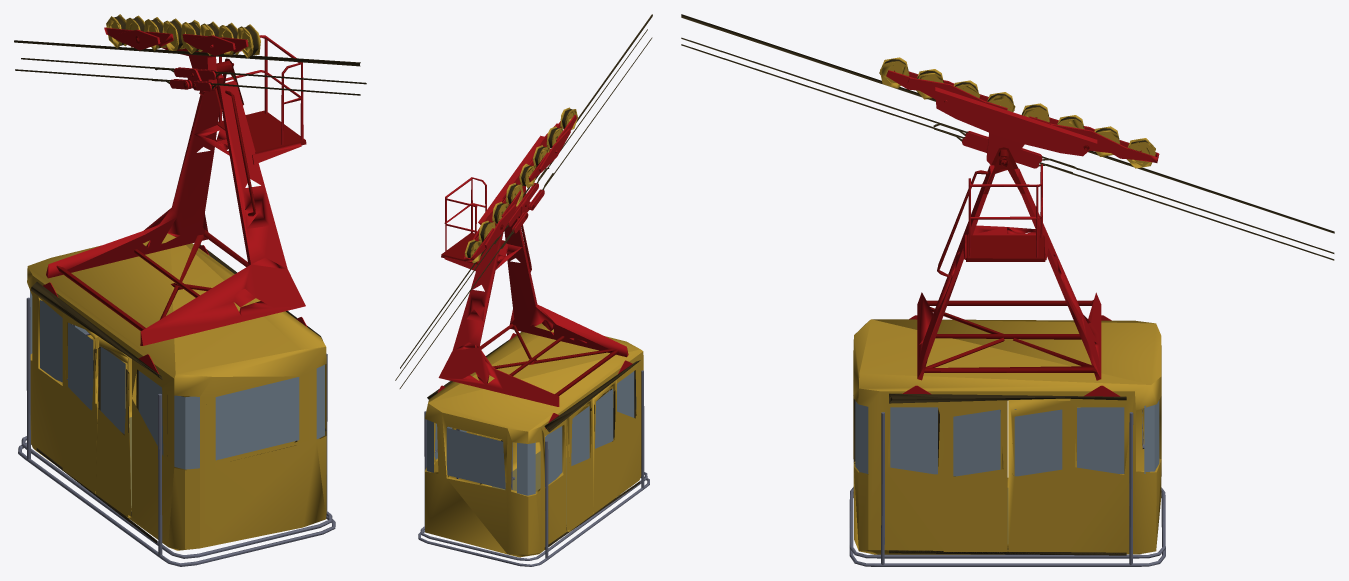
Rendered from cap-treo.glb.
The picture shows the model from 3 angles, left to right: view 1: azimuth 30°, elevation 25°; view 2: azimuth 150°, elevation 25°; view 3: azimuth 270°, elevation 25°; orthographic projection. The views are drawn at different scales.
Visible parts, largest first — view 1: Cabin_0, Legs_2, Windows_16, Doors_15, Handle (outside)_10, Stand_3, Wheels_8, Head_11, Sticks_9, Door holders_1, Ropes (ins)_14, Rope base_13 (+2 smaller); view 2: Cabin_0, Legs_2, Windows_16, Doors_15, Handle (outside)_10, Head_11, Wheels_8, Sticks_9, Stand_3, Ropes (ins)_14, Door holders_1, Insurance_12 (+1 smaller); view 3: Cabin_0, Windows_16, Doors_15, Head_11, Legs_2, Handle (outside)_10, Sticks_9, Stand_3, Wheels_8, Ropes (ins)_14, Door holders_1, Rope base_13 (+1 smaller).
Boxes of the visible parts, <box> form: Cabin_0: <box>27,233,326,550</box>; Legs_2: <box>46,75,305,345</box>; Windows_16: <box>30,291,324,469</box>; Doors_15: <box>62,312,131,517</box>; Handle (outside)_10: <box>18,297,335,566</box>; Stand_3: <box>218,35,306,164</box>; Wheels_8: <box>106,14,260,58</box>; Head_11: <box>104,27,248,92</box>; Sticks_9: <box>56,230,248,330</box>; Door holders_1: <box>30,244,322,543</box>; Ropes (ins)_14: <box>15,58,366,95</box>; Rope base_13: <box>14,40,360,66</box>; Cabin_0: <box>424,323,643,557</box>; Legs_2: <box>438,216,628,406</box>; Windows_16: <box>426,371,636,495</box>; Doors_15: <box>459,380,616,531</box>; Handle (outside)_10: <box>418,370,649,566</box>; Head_11: <box>464,115,576,261</box>; Wheels_8: <box>464,107,577,263</box>; Sticks_9: <box>475,324,618,395</box>; Stand_3: <box>441,177,504,272</box>; Ropes (ins)_14: <box>395,29,652,388</box>; Door holders_1: <box>427,339,640,549</box>; Insurance_12: <box>507,183,544,233</box>; Cabin_0: <box>853,319,1161,554</box>; Windows_16: <box>855,400,1159,476</box>; Doors_15: <box>943,399,1070,551</box>; Head_11: <box>886,70,1159,164</box>; Legs_2: <box>917,165,1101,380</box>; Handle (outside)_10: <box>849,412,1165,566</box>; Sticks_9: <box>924,300,1096,372</box>; Stand_3: <box>962,164,1048,261</box>; Wheels_8: <box>879,57,1155,168</box>; Ropes (ins)_14: <box>681,37,1334,260</box>; Door holders_1: <box>889,393,1126,555</box>; Rope base_13: <box>681,14,1334,233</box>.
Bounding box in the file's own units: 0.3206 × 0.8781 × 1.
